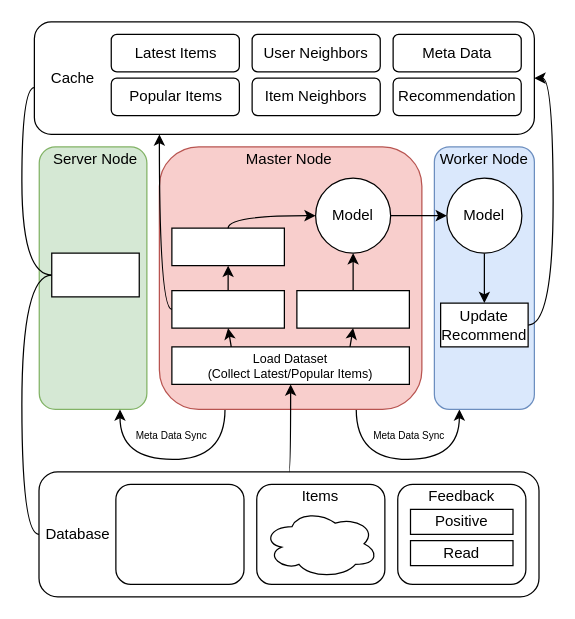
Some shapes in this 575 by 619 pixel diagram are drawn without their labels. The shapes that lost their labels are listed below. From the top down, each one's centre as x and y in pixels, then its label:
(x=227, y=246): Training Models
(x=94, y=274): RESTful API
(x=227, y=308): Search Neighbors
(x=352, y=308): Oprimize Models
(x=179, y=533): Users
(x=320, y=543): Categories
